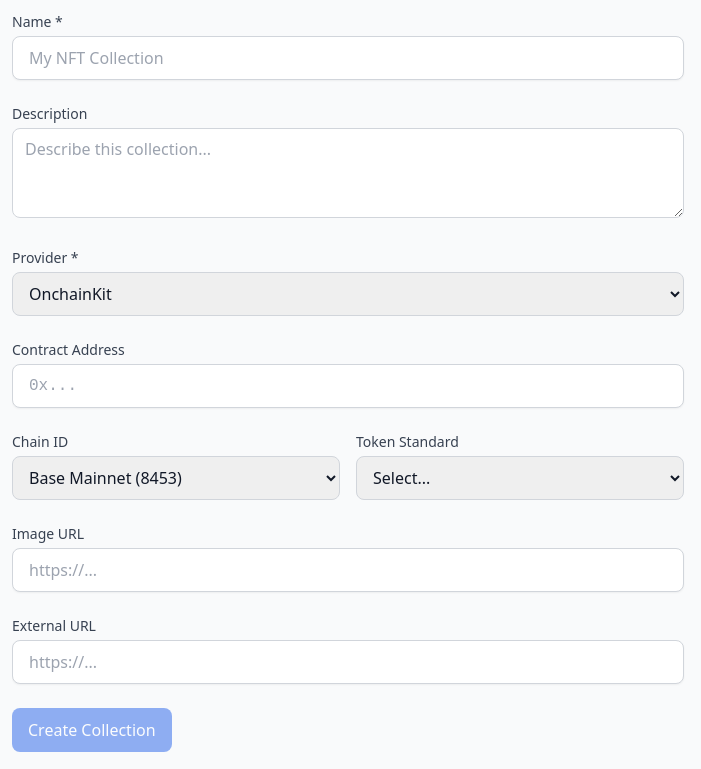
Test: CollectionForm › submit button is enabled when name has value
The width and height of the screenshot is (701, 769).
Type "My Collection" into the field labelled "Name *" at (348, 58), box [12,36,684,80]
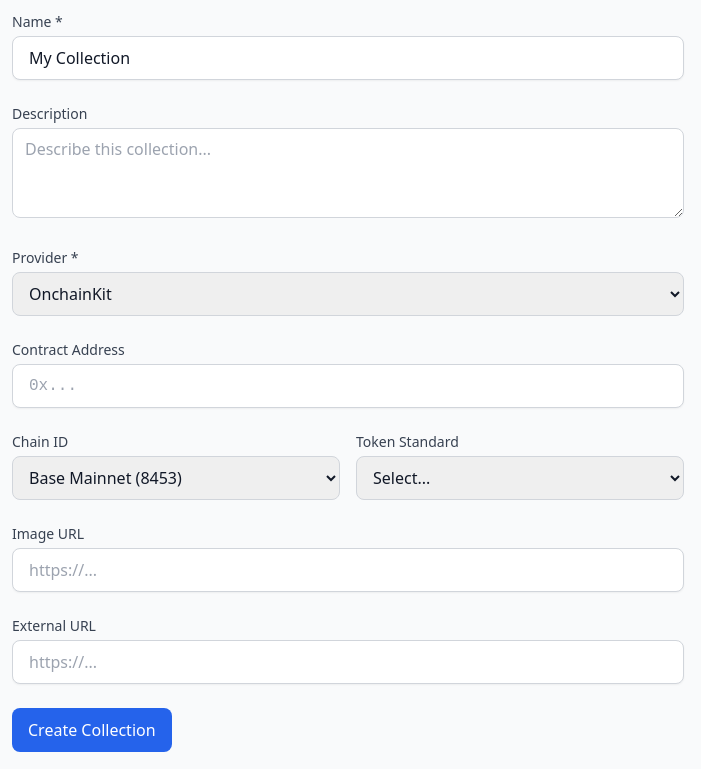
Result: the button "Create Collection" is enabled at [12,708,172,752]
